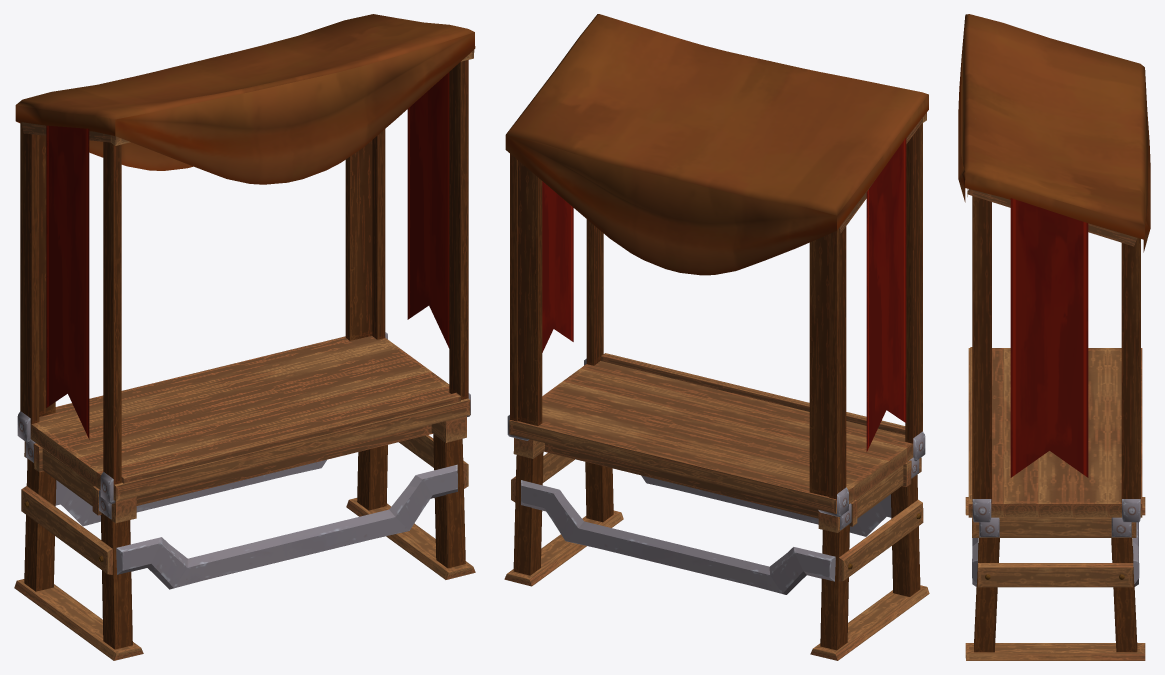
Rendered from stall_empty.glb.
3 views of the same model, side by side, from view 1: azimuth 30°, elevation 25°; view 2: azimuth 150°, elevation 25°; view 3: azimuth 270°, elevation 25° (orthographic). The views are drawn at different scales.
Parts seen in each view (by area): view 1: Stall_Empty; view 2: Stall_Empty; view 3: Stall_Empty.
Boxes of the visible parts, x1,y1,x2,y2 form: Stall_Empty: [14, 14, 475, 660]; Stall_Empty: [504, 14, 929, 660]; Stall_Empty: [958, 14, 1150, 660].
Size of the model in its own units: 1.84 by 2.63 by 0.9323.
Materials: 3 (3 with a texture image).
